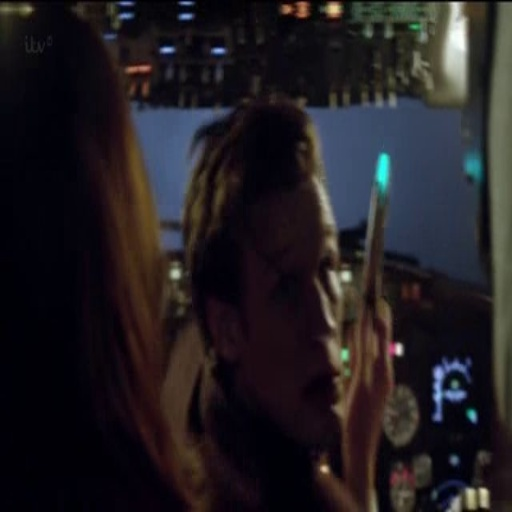hand: (343, 298, 397, 469)
